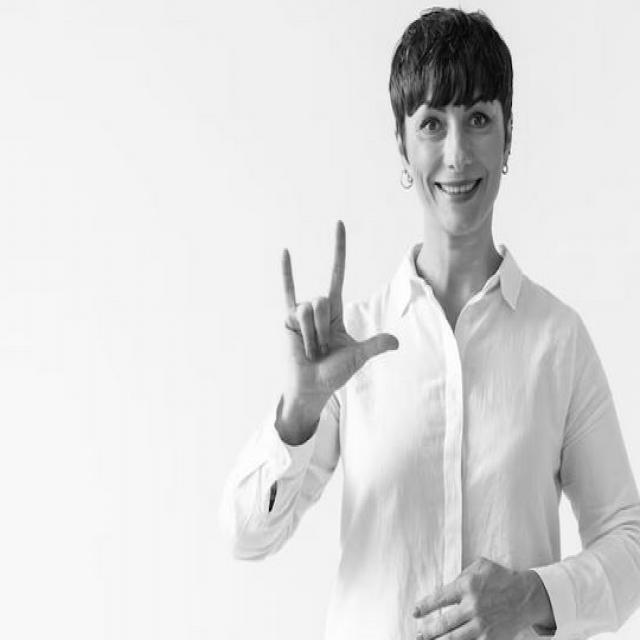i love you: (273, 211, 404, 420)
